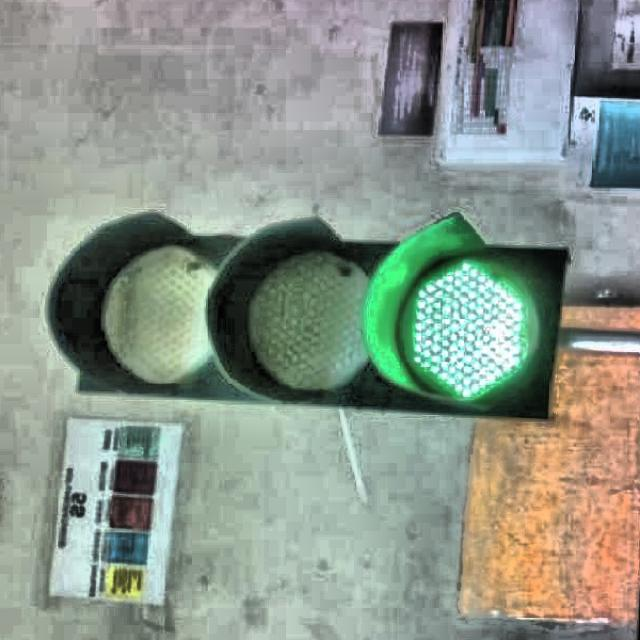green: (52, 217, 554, 406)
